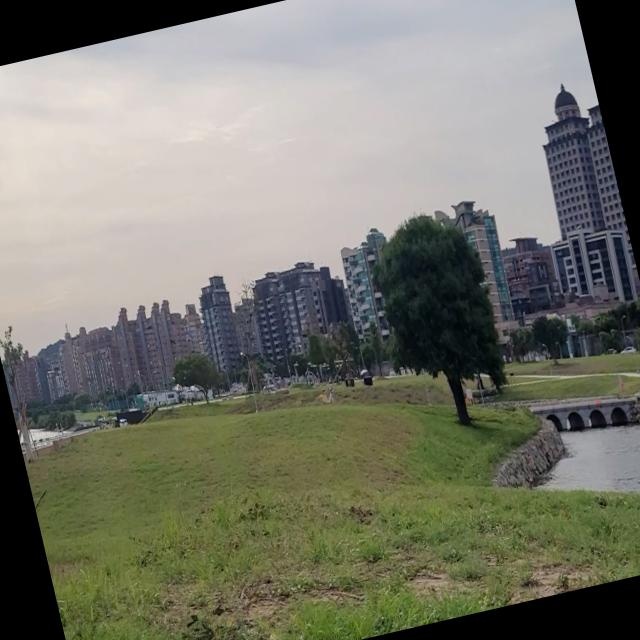grass: (27, 394, 640, 640)
